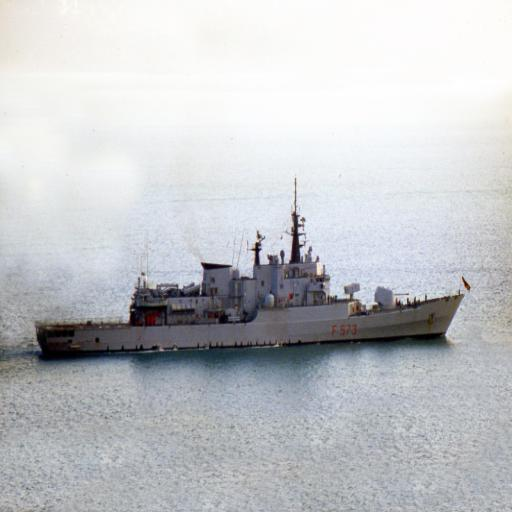Fragata: (31, 152, 473, 365)
